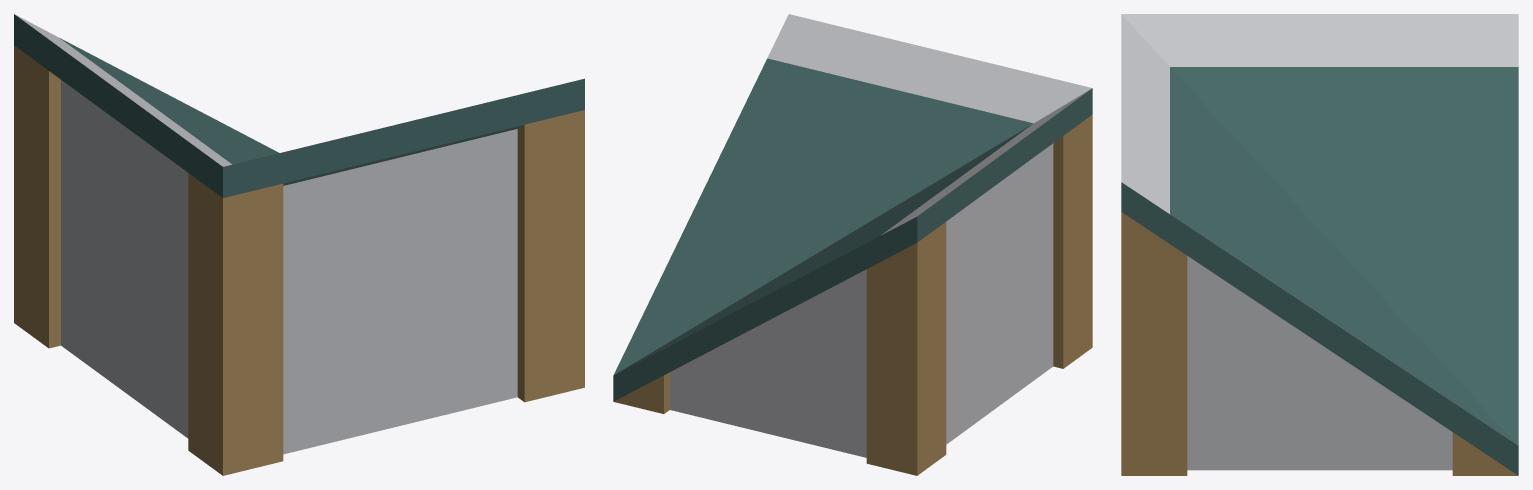
Rendered from Roof_Inner_Corner_Green_01.obj.
3 views of the same model, side by side, from view 1: azimuth 30°, elevation 25°; view 2: azimuth 150°, elevation 25°; view 3: azimuth 270°, elevation 25° (orthographic). The views are drawn at different scales.
Parts seen in each view (by area): view 1: Mesh1 Roof_Inner_Corner_Green Model; view 2: Mesh1 Roof_Inner_Corner_Green Model; view 3: Mesh1 Roof_Inner_Corner_Green Model.
Boxes of the visible parts, <box> form: Mesh1 Roof_Inner_Corner_Green Model: <box>14,14,584,475</box>; Mesh1 Roof_Inner_Corner_Green Model: <box>613,14,1092,475</box>; Mesh1 Roof_Inner_Corner_Green Model: <box>1121,14,1518,475</box>.
Bounding box in the file's own units: 3 × 2.45 × 3.
